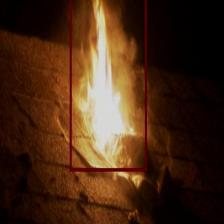fire: (69, 0, 146, 170)
